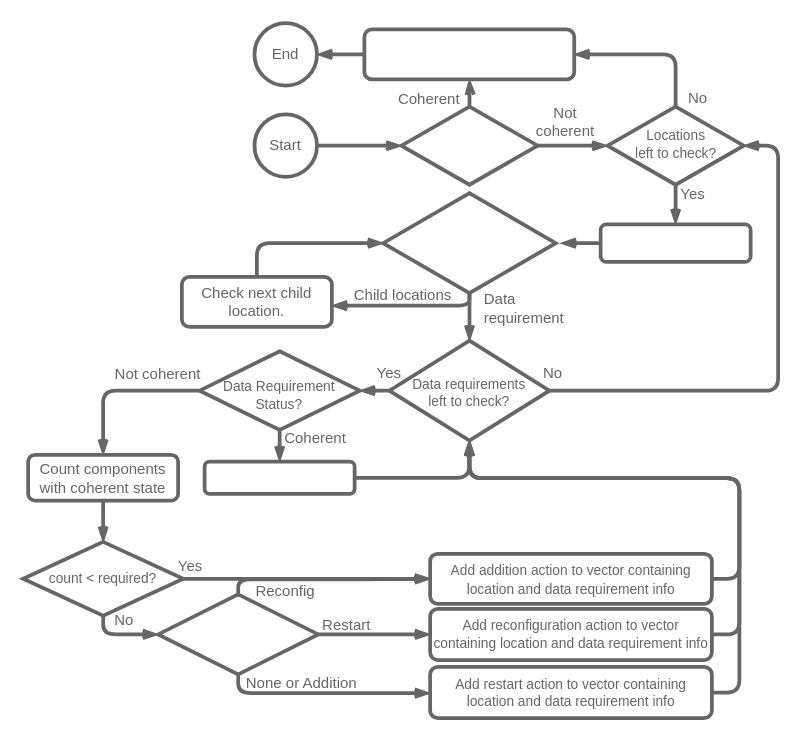
Image size: 811x741. Some labels were removed from this diagram. Here are the shapes that lost their labels. From the top down, the box of each, then its label:
(362, 27, 576, 81): Return vector containing actions
(399, 104, 539, 186): Application Status?
(381, 191, 557, 294): Child Locations or data requirements
(598, 222, 752, 263): Check next location
(202, 459, 356, 495): Nothing to do
(156, 592, 320, 676): What was last attemped?
